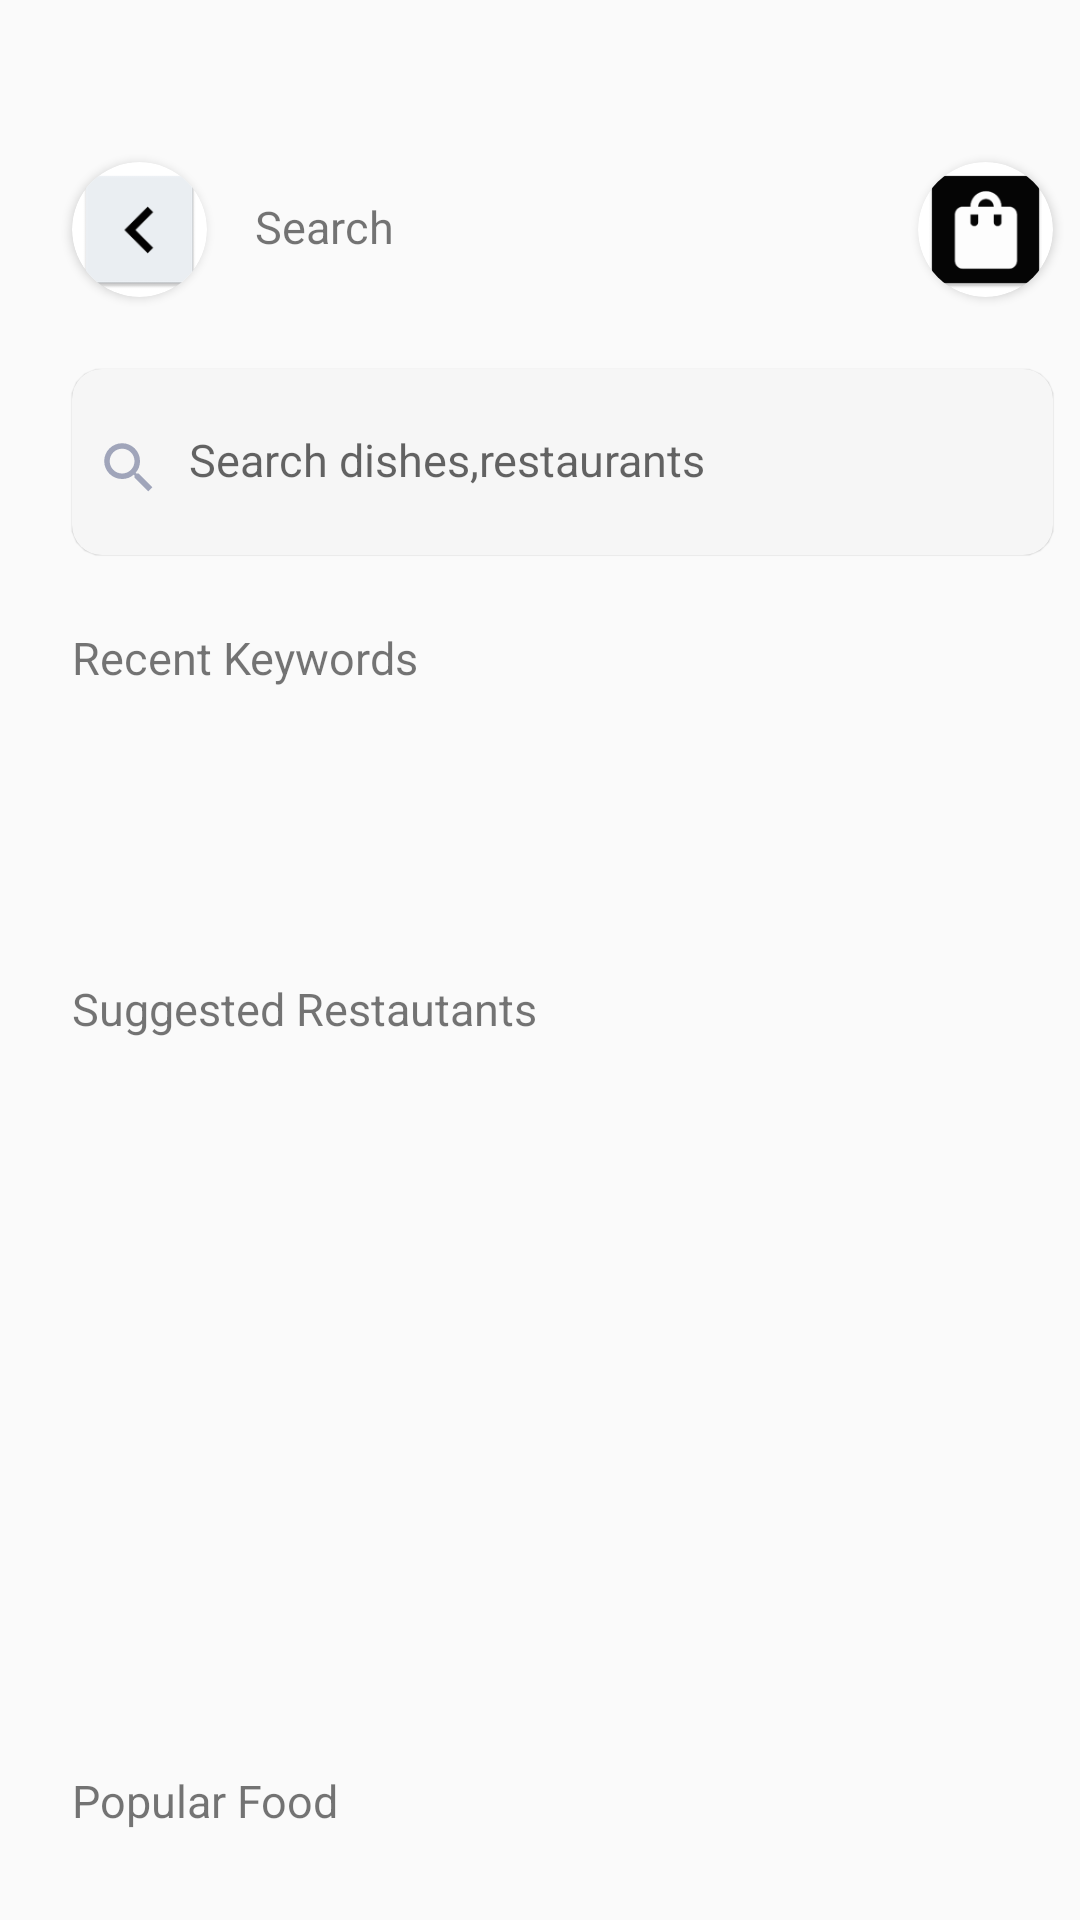

Locate icon controls on the screen. Image size 1080 x 1920, boxes as region(x1, y1, x2, y2).
bag: region(931, 175, 1040, 287)
left arrow: region(85, 188, 194, 287)
